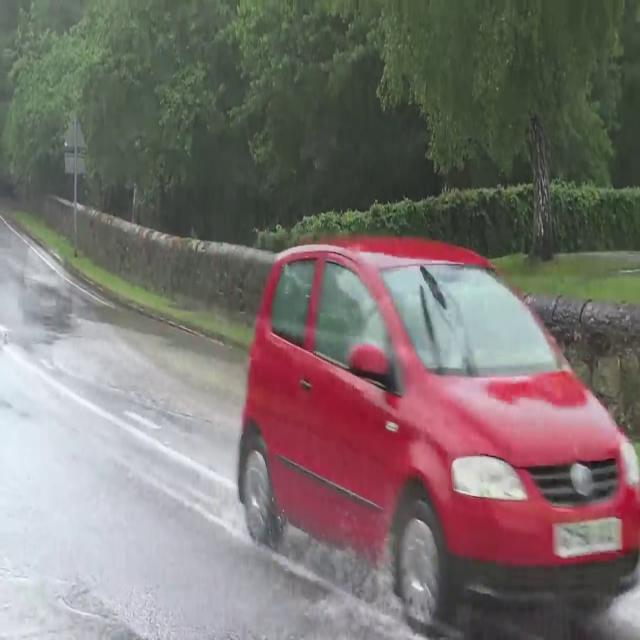license-plate-annotation: (557, 516, 620, 562)
